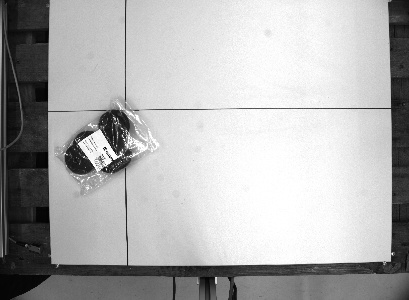t1: (48, 93, 162, 198)
